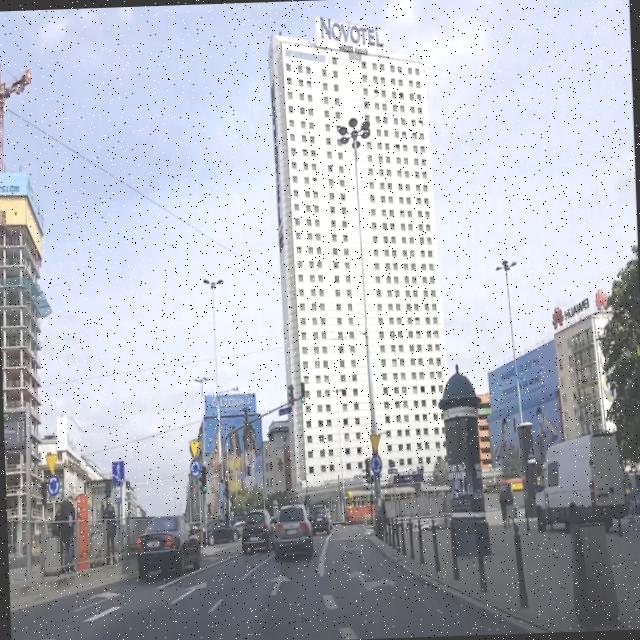Ustap pierwszenstwa: (45, 452, 58, 474), (368, 432, 381, 452), (188, 439, 200, 458)
